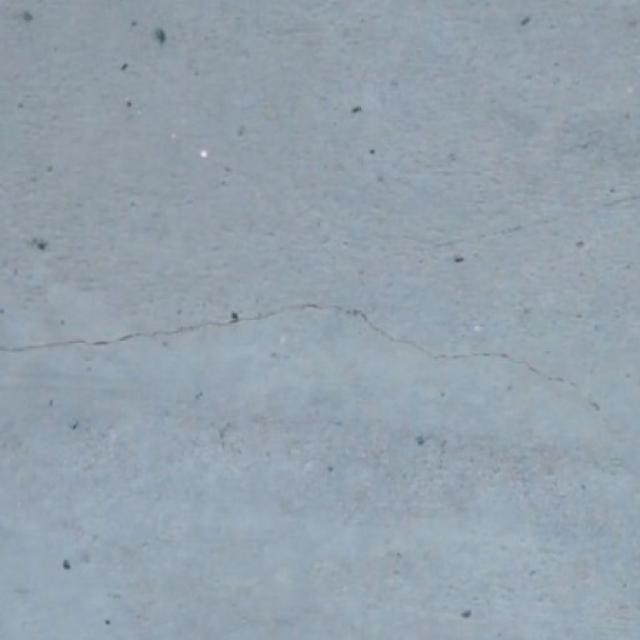Horizontal Crack: (0, 302, 611, 432)
